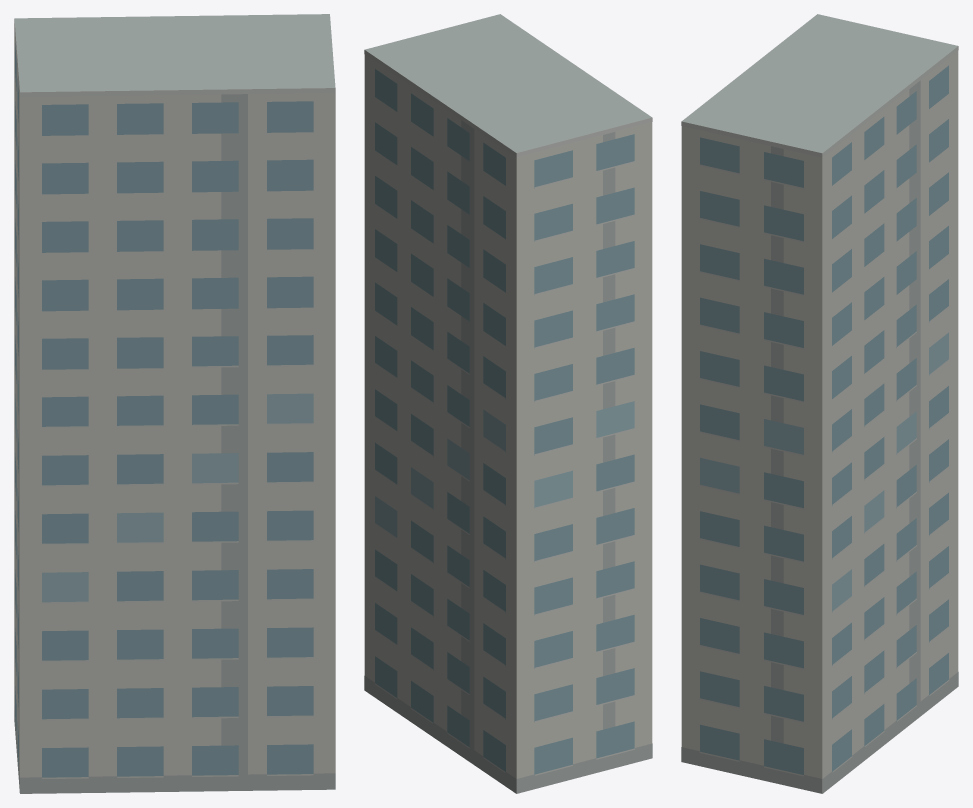
File: residential-46622c0e-b7f7-48ff-ae60-669ff2315146.glb
3 renders of one model, left to right at view 1: azimuth 30°, elevation 25°; view 2: azimuth 150°, elevation 25°; view 3: azimuth 270°, elevation 25°, orthographic. The views are drawn at different scales.
Parts seen in each view (by area): view 1: residential-46622c0e-b7f7-48ff-ae60-669ff2315146.tmp; view 2: residential-46622c0e-b7f7-48ff-ae60-669ff2315146.tmp; view 3: residential-46622c0e-b7f7-48ff-ae60-669ff2315146.tmp.
Boxes of the visible parts, x1,y1,x2,y2 form: residential-46622c0e-b7f7-48ff-ae60-669ff2315146.tmp: (14,14,335,793); residential-46622c0e-b7f7-48ff-ae60-669ff2315146.tmp: (364,14,652,793); residential-46622c0e-b7f7-48ff-ae60-669ff2315146.tmp: (681,14,958,793).
Bounding box in the file's own units: 16.33 × 35 × 13.73.
